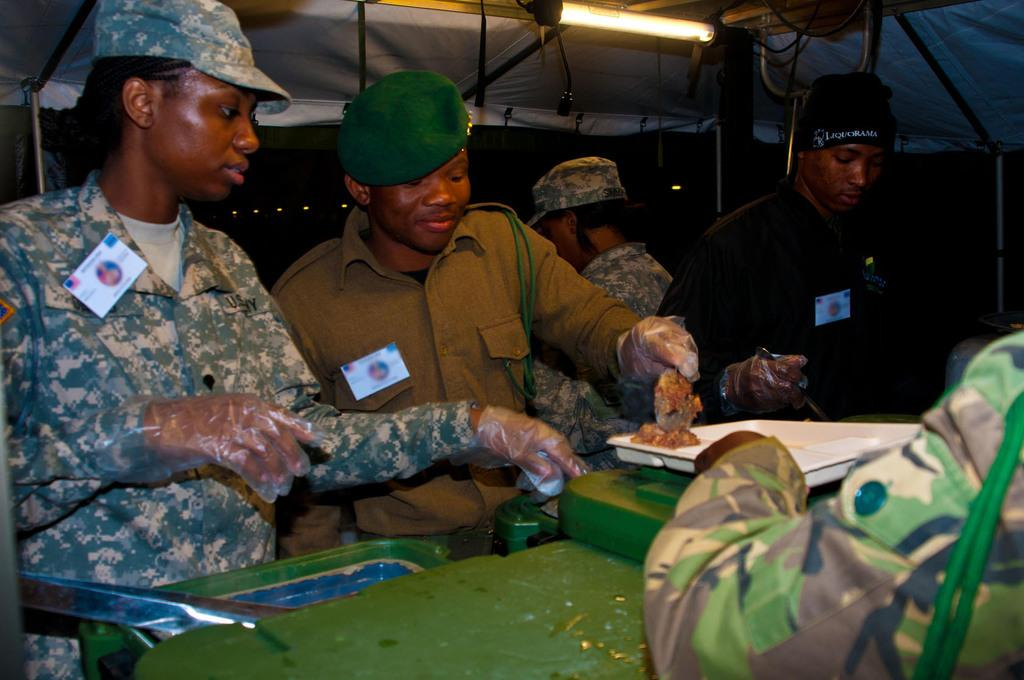Hat: (94, 0, 288, 115), (526, 154, 620, 225)
